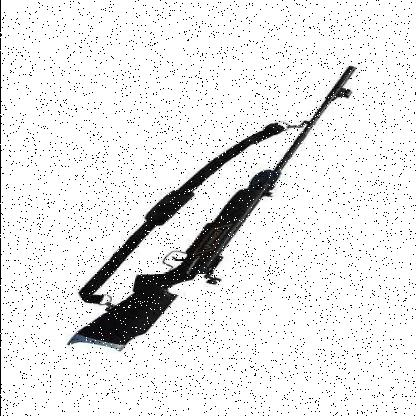rifle: (42, 60, 372, 364)
